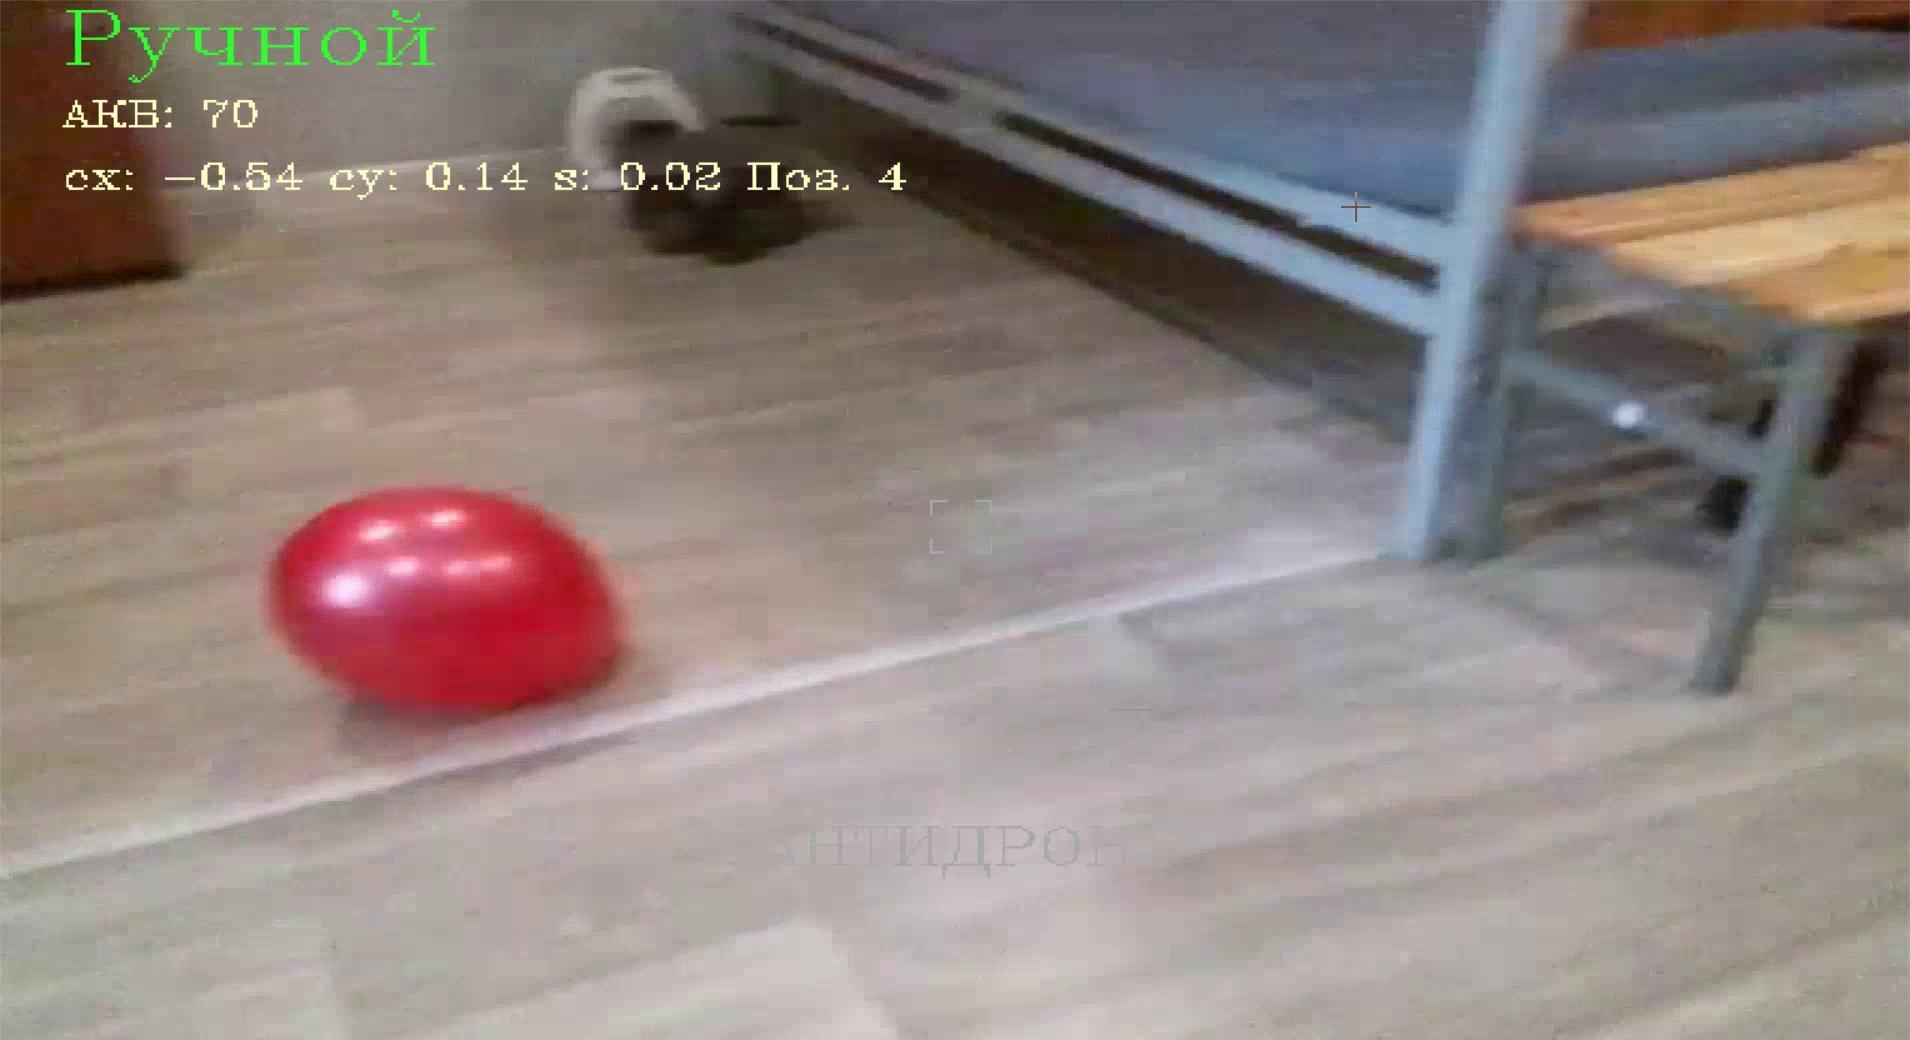red: (260, 475, 622, 724)
